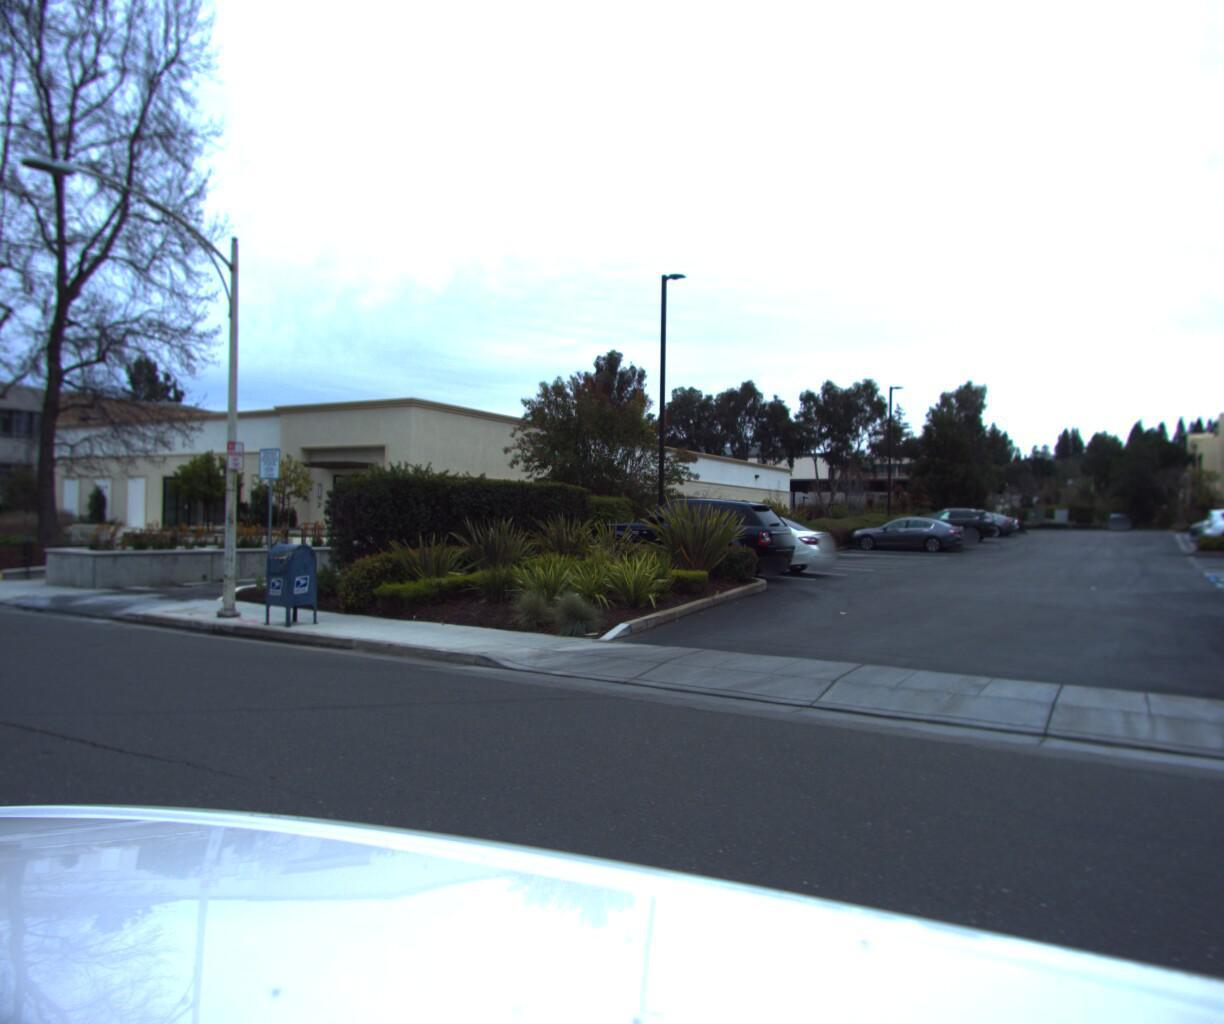car: (579, 495, 804, 579)
